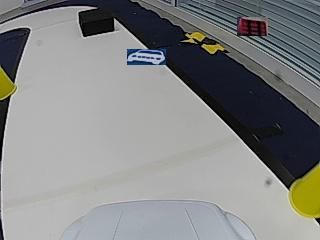block: (77, 8, 115, 36)
cone: (289, 164, 319, 217), (0, 64, 18, 98)
